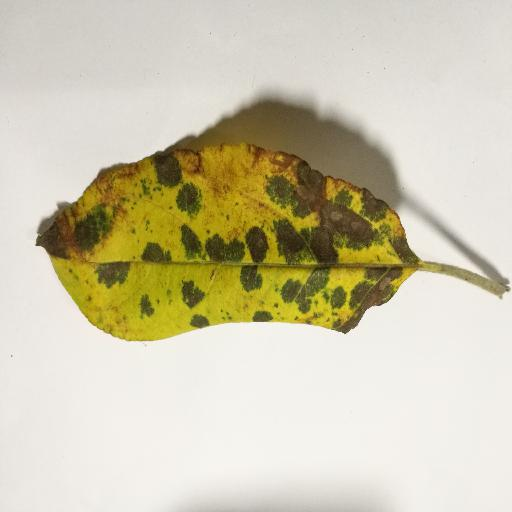Brown_Spot: (245, 145, 414, 259), (331, 264, 412, 330), (31, 202, 113, 263)
